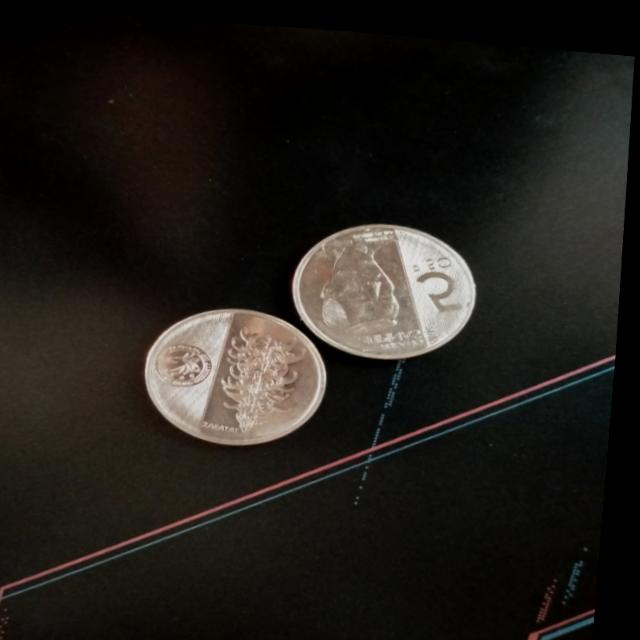5_New_Back: (216, 305, 328, 440)
5_New_Front: (405, 235, 484, 313)
